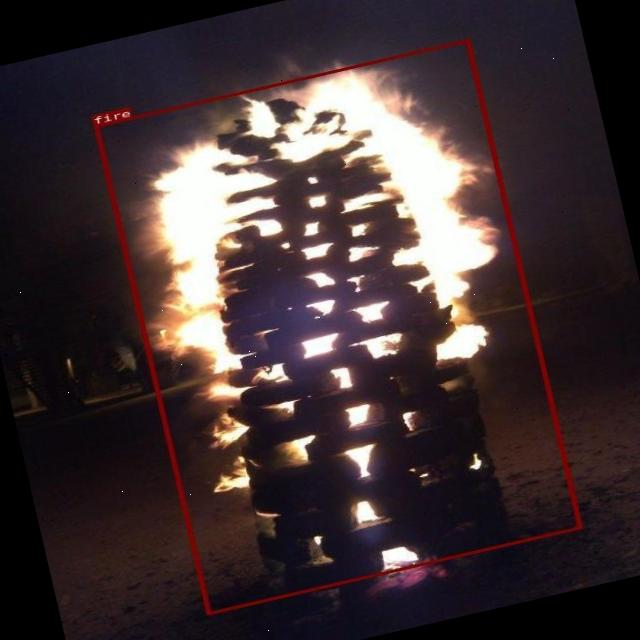fire: (92, 38, 580, 614)
